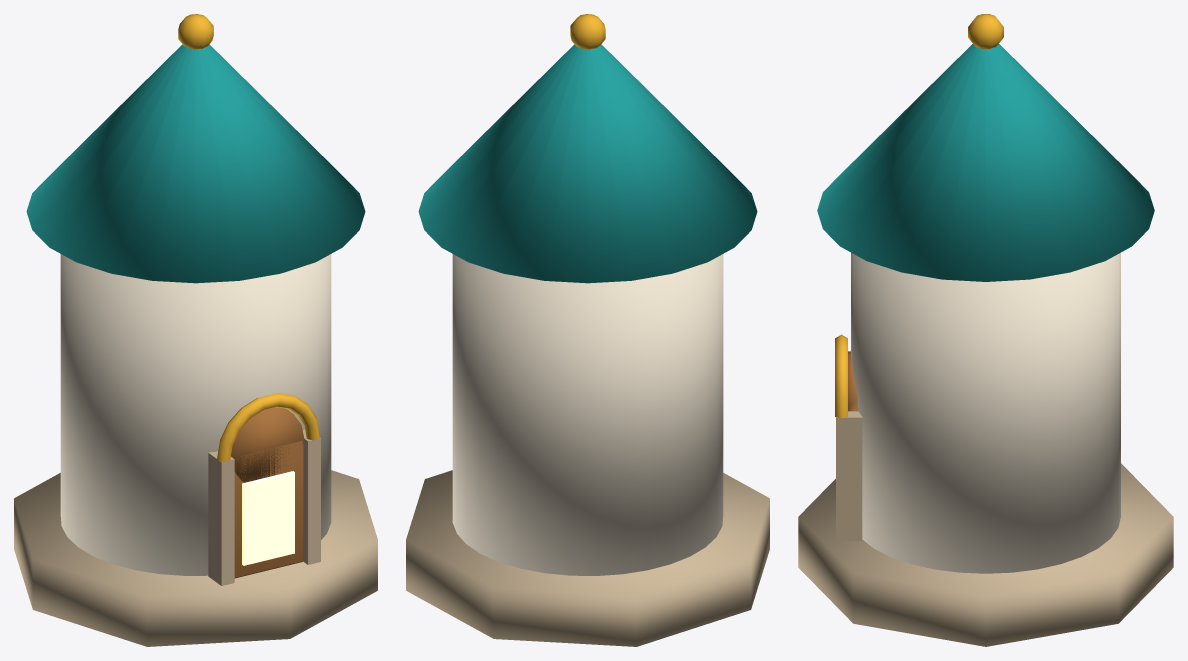
Rendered from turn_1.glb.
3 renders of one model, left to right at view 1: azimuth 30°, elevation 25°; view 2: azimuth 150°, elevation 25°; view 3: azimuth 270°, elevation 25°, orthographic.
Parts seen in each view (by area): view 1: Turn.001; view 2: Turn.001; view 3: Turn.001.
Part boxes in pixels (x1,y1,x2,y2): Turn.001: [14, 14, 377, 646]; Turn.001: [406, 14, 769, 646]; Turn.001: [798, 14, 1173, 646].
Size of the model in its own units: 2 by 3.25 by 2.
